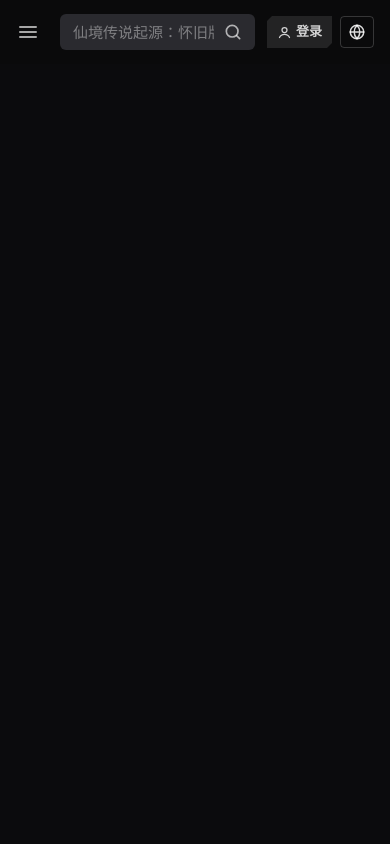
Header — mobile menu (dropdown under the bar, hamburger on the left) › closes when a link is chosen
This screenshot has width=390, height=844.
Step 1. Click the button named "打开菜单" → (28, 32), box [8,12,48,52]
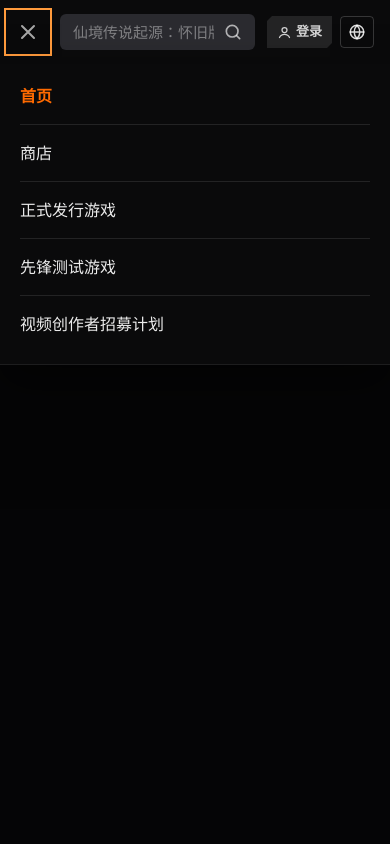
Step 2. Click the link "商店" → (36, 153), box [20,125,370,182]
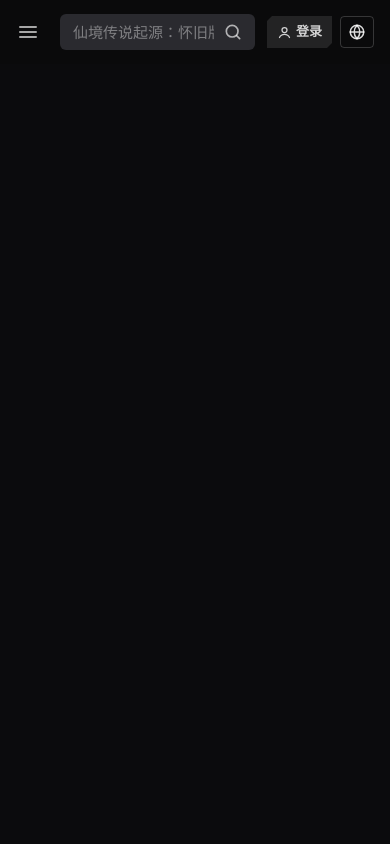
expect the navigation bar "主菜单" is gone: met
